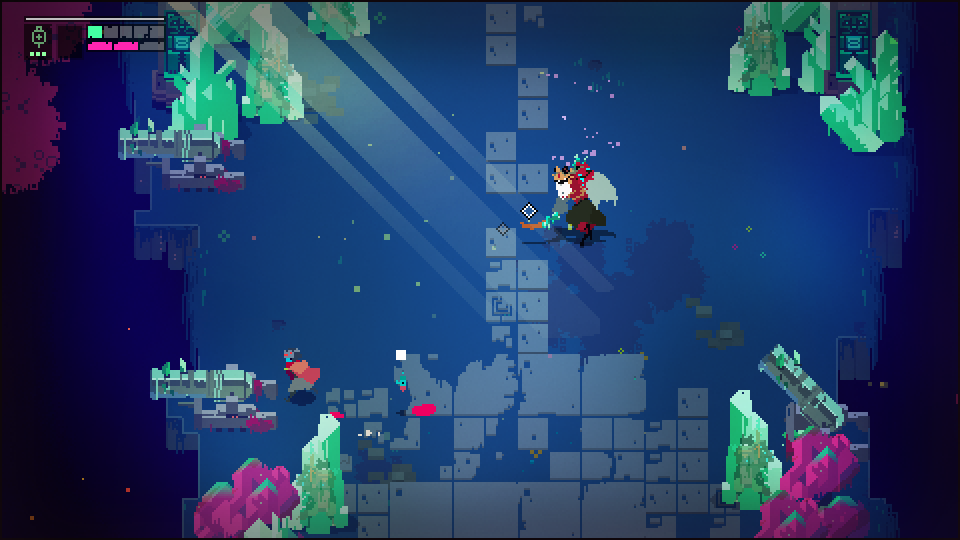hanged_man: (534, 160, 620, 242)
player: (281, 351, 325, 401)
